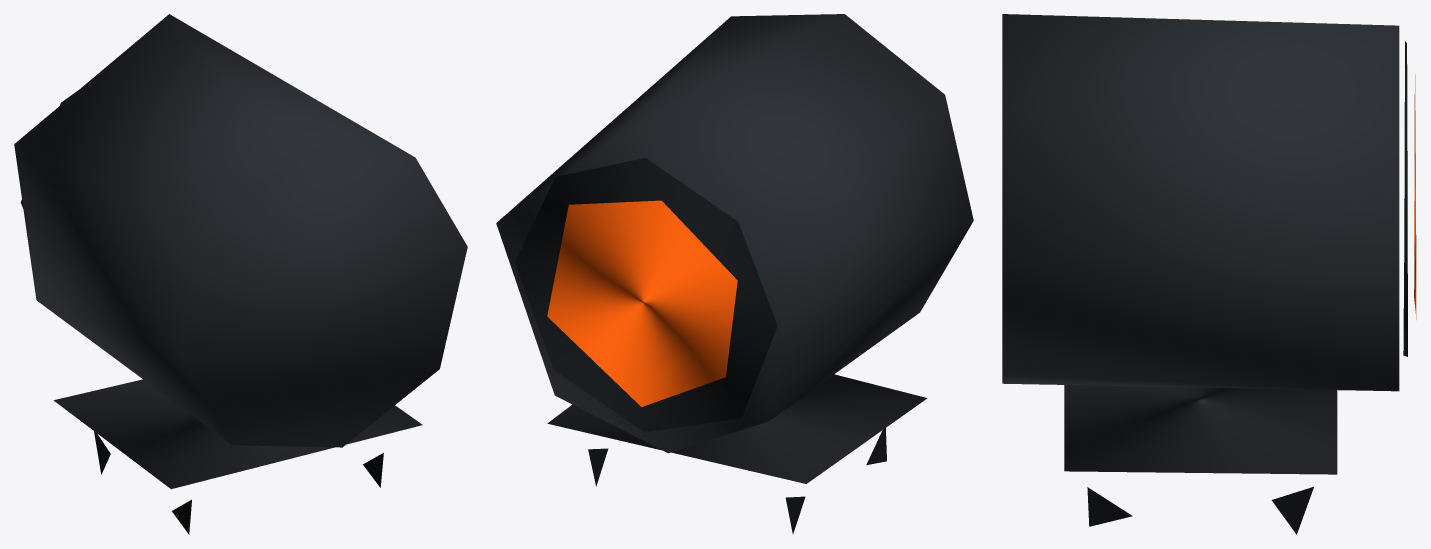
The model's file is heater_fan_lod2.glb.
3 views of the same model, side by side, from view 1: azimuth 30°, elevation 25°; view 2: azimuth 150°, elevation 25°; view 3: azimuth 270°, elevation 25° (orthographic). The views are drawn at different scales.
Visible parts, largest first — view 1: heater_fan_lod2; view 2: heater_fan_lod2; view 3: heater_fan_lod2.
Part boxes in pixels (box(x1,y1,x2,y2)): heater_fan_lod2: box(14, 14, 467, 534); heater_fan_lod2: box(496, 14, 973, 533); heater_fan_lod2: box(1002, 14, 1416, 534).
Bounding box in the file's own units: 0.6114 × 0.8015 × 0.6471.
